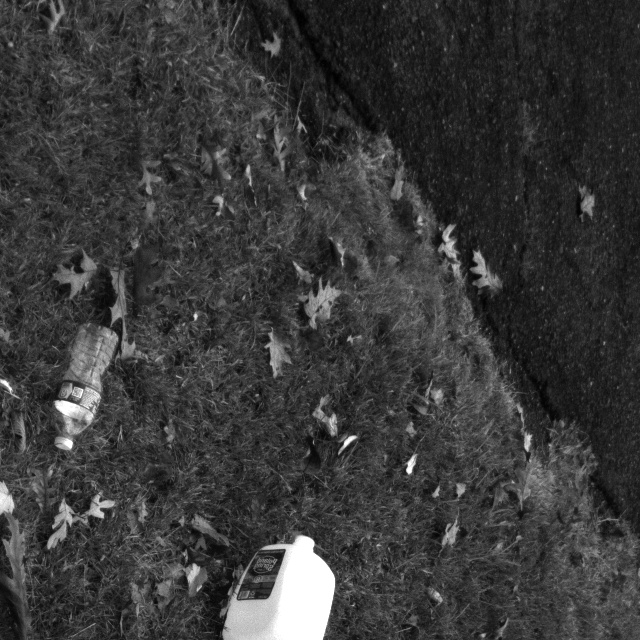bottle: (45, 322, 119, 454)
can: (221, 529, 343, 640)
